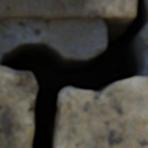brick: (0, 0, 136, 20)
broken_brick: (56, 76, 147, 147), (0, 66, 37, 147)
crack: (0, 0, 147, 147)
